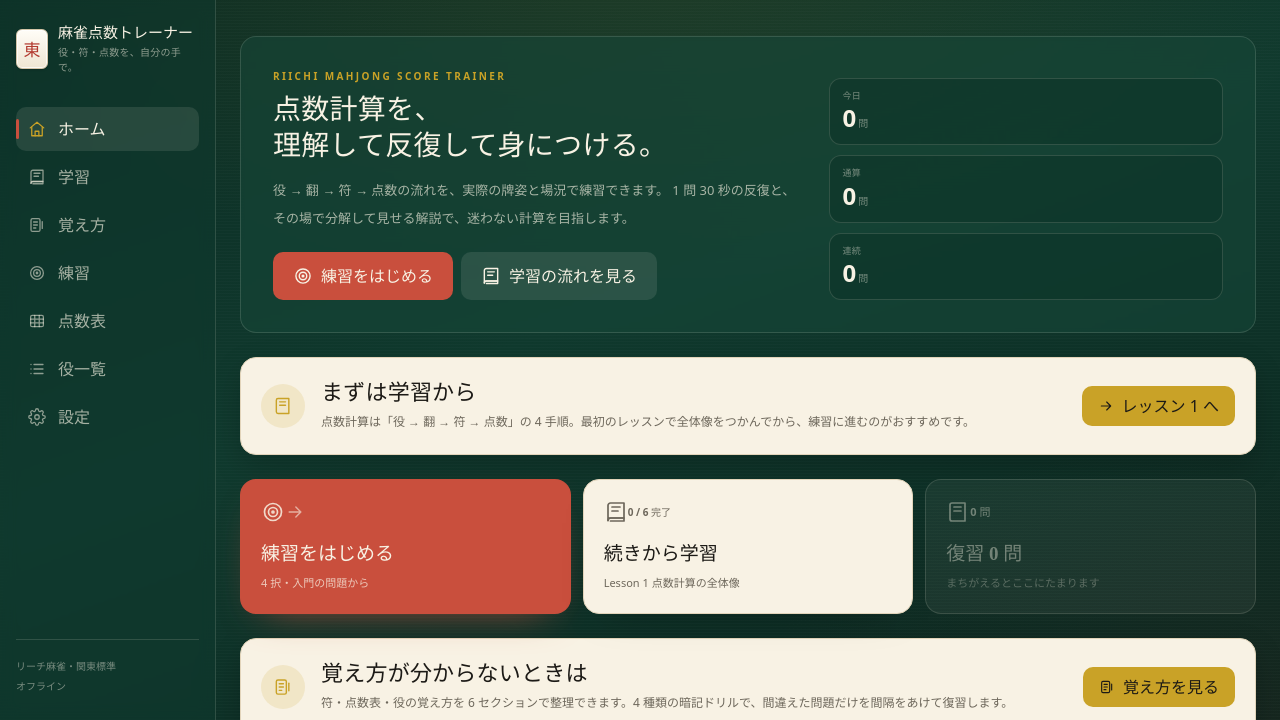
Test: UI シェル › 覚え方タブへ移動でき、学習と練習の間にある
Click the button "覚え方" at (108, 225), box [16,203,199,247]
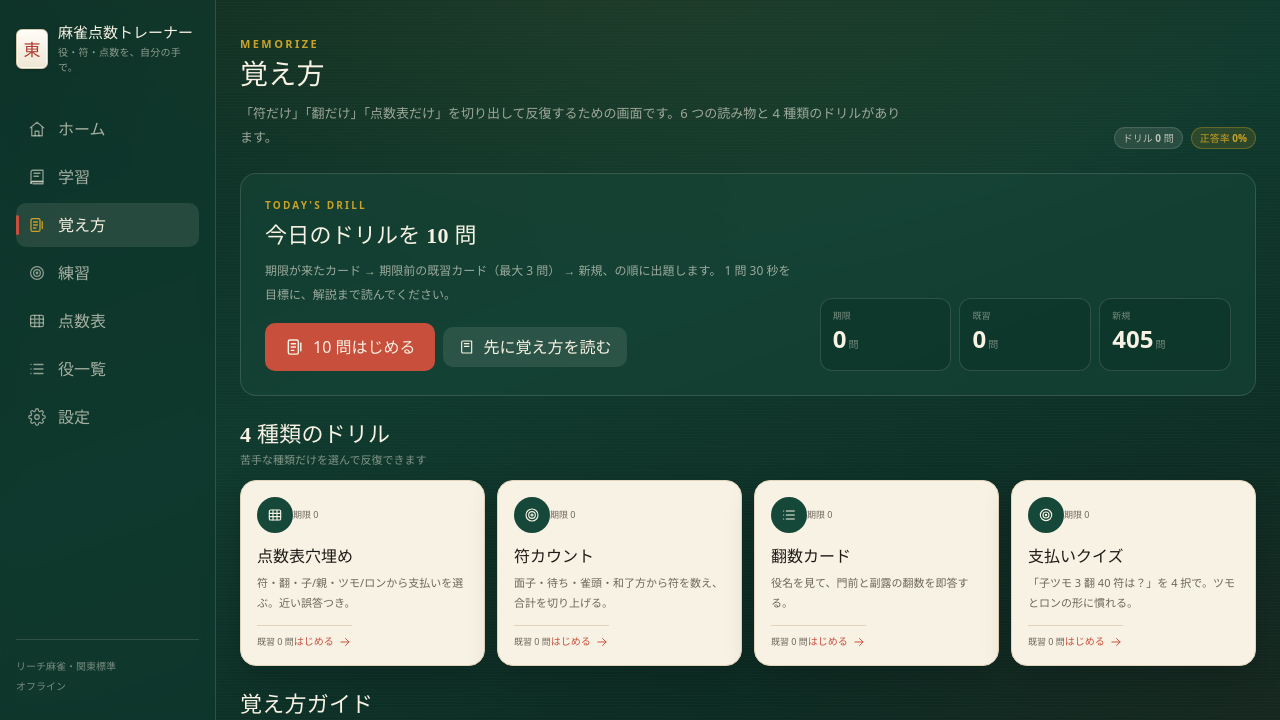
Expected: the heading "覚え方" is shown, [240,58,325,90]
